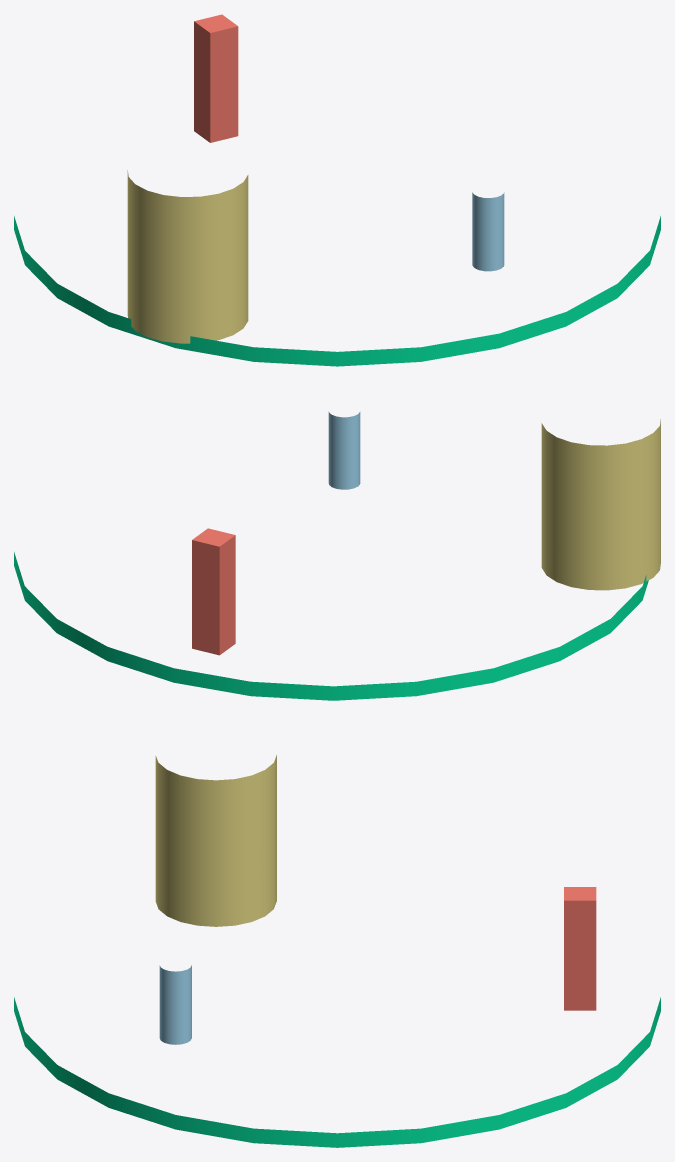
File: circular_curve_setting_rankine_method.glb
3 renders of one model, top to bottom at view 1: azimuth 30°, elevation 25°; view 2: azimuth 150°, elevation 25°; view 3: azimuth 270°, elevation 25°, orthographic.
Parts seen in each view (by area): view 1: RankineDeflectionAngleTheodolite, CircularCurveArcTrack, TangentLinesIntersectionPointV, SubChordRangingPegs; view 2: RankineDeflectionAngleTheodolite, CircularCurveArcTrack, TangentLinesIntersectionPointV, SubChordRangingPegs; view 3: RankineDeflectionAngleTheodolite, CircularCurveArcTrack, TangentLinesIntersectionPointV, SubChordRangingPegs.
Part boxes in pixels (x1,y1,x2,y2): RankineDeflectionAngleTheodolite: (127,170,248,343); CircularCurveArcTrack: (14,216,660,366); TangentLinesIntersectionPointV: (194,14,238,142); SubChordRangingPegs: (472,192,504,271); RankineDeflectionAngleTheodolite: (541,419,660,590); CircularCurveArcTrack: (14,552,648,700); TangentLinesIntersectionPointV: (192,528,235,655); SubChordRangingPegs: (328,411,360,489); RankineDeflectionAngleTheodolite: (155,755,276,926); CircularCurveArcTrack: (14,997,660,1147); TangentLinesIntersectionPointV: (564,887,596,1010); SubChordRangingPegs: (159,965,191,1044).
Size of the model in its own units: 1.6 by 0.42 by 1.6.
